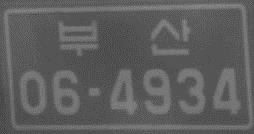-: (84, 84, 104, 101)
0: (18, 68, 48, 117)
3: (176, 66, 207, 118)
4: (209, 65, 241, 119), (107, 66, 139, 118)
6: (50, 68, 82, 117)
9: (140, 66, 172, 117)
부산_D: (55, 14, 192, 58)
